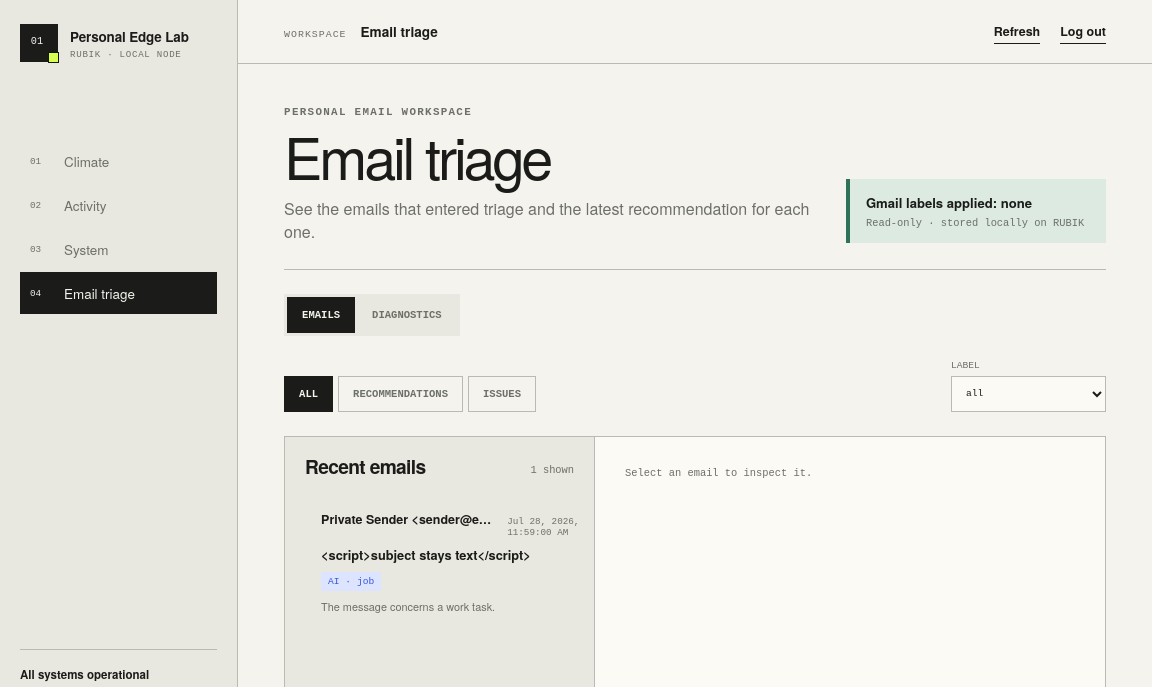
message-centric email-triage workspace › records owner feedback only after an explicit protected action
Click the button named "subject stays text" at [440, 562], box [305, 494, 574, 631]
(page scrolled)
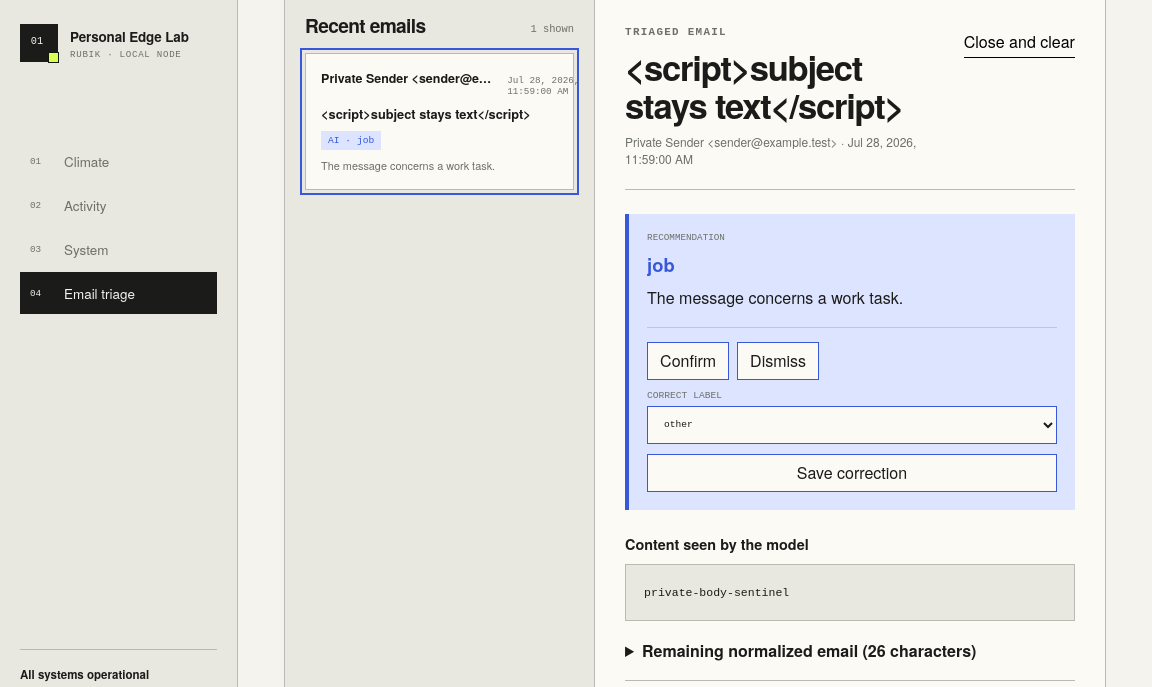
Click the button "Confirm" at [688, 361], box [647, 342, 729, 380]
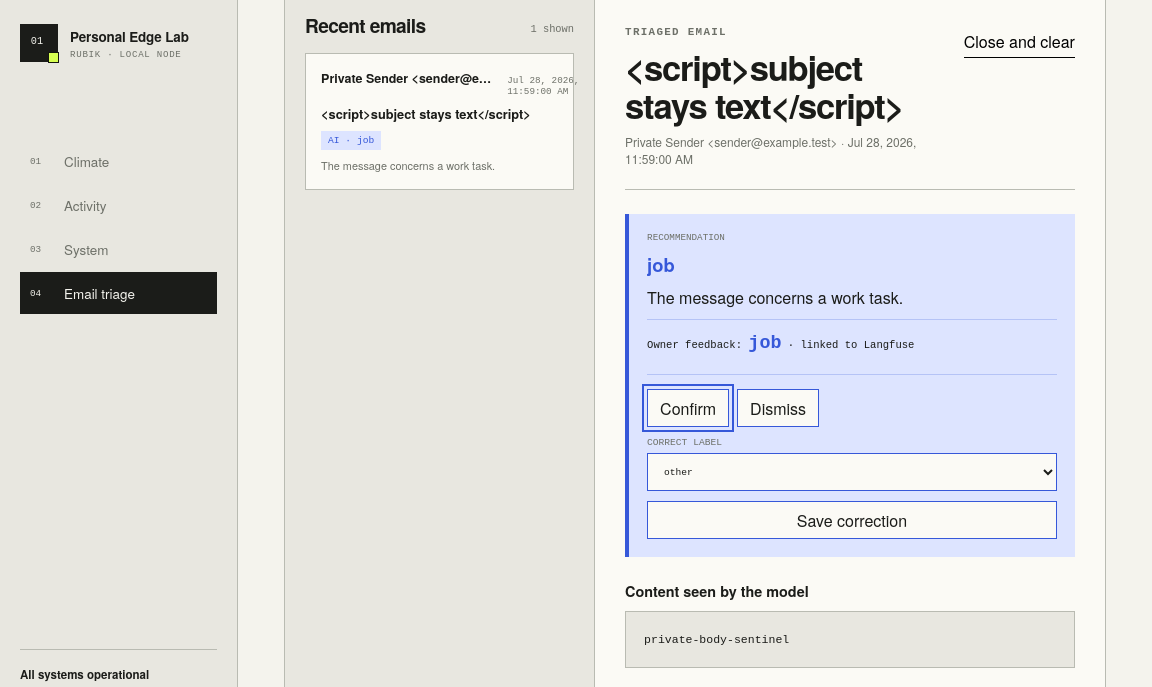
Expected: the text "Owner feedback: job · linked to Langfuse" is shown, [647, 319, 1057, 358]
